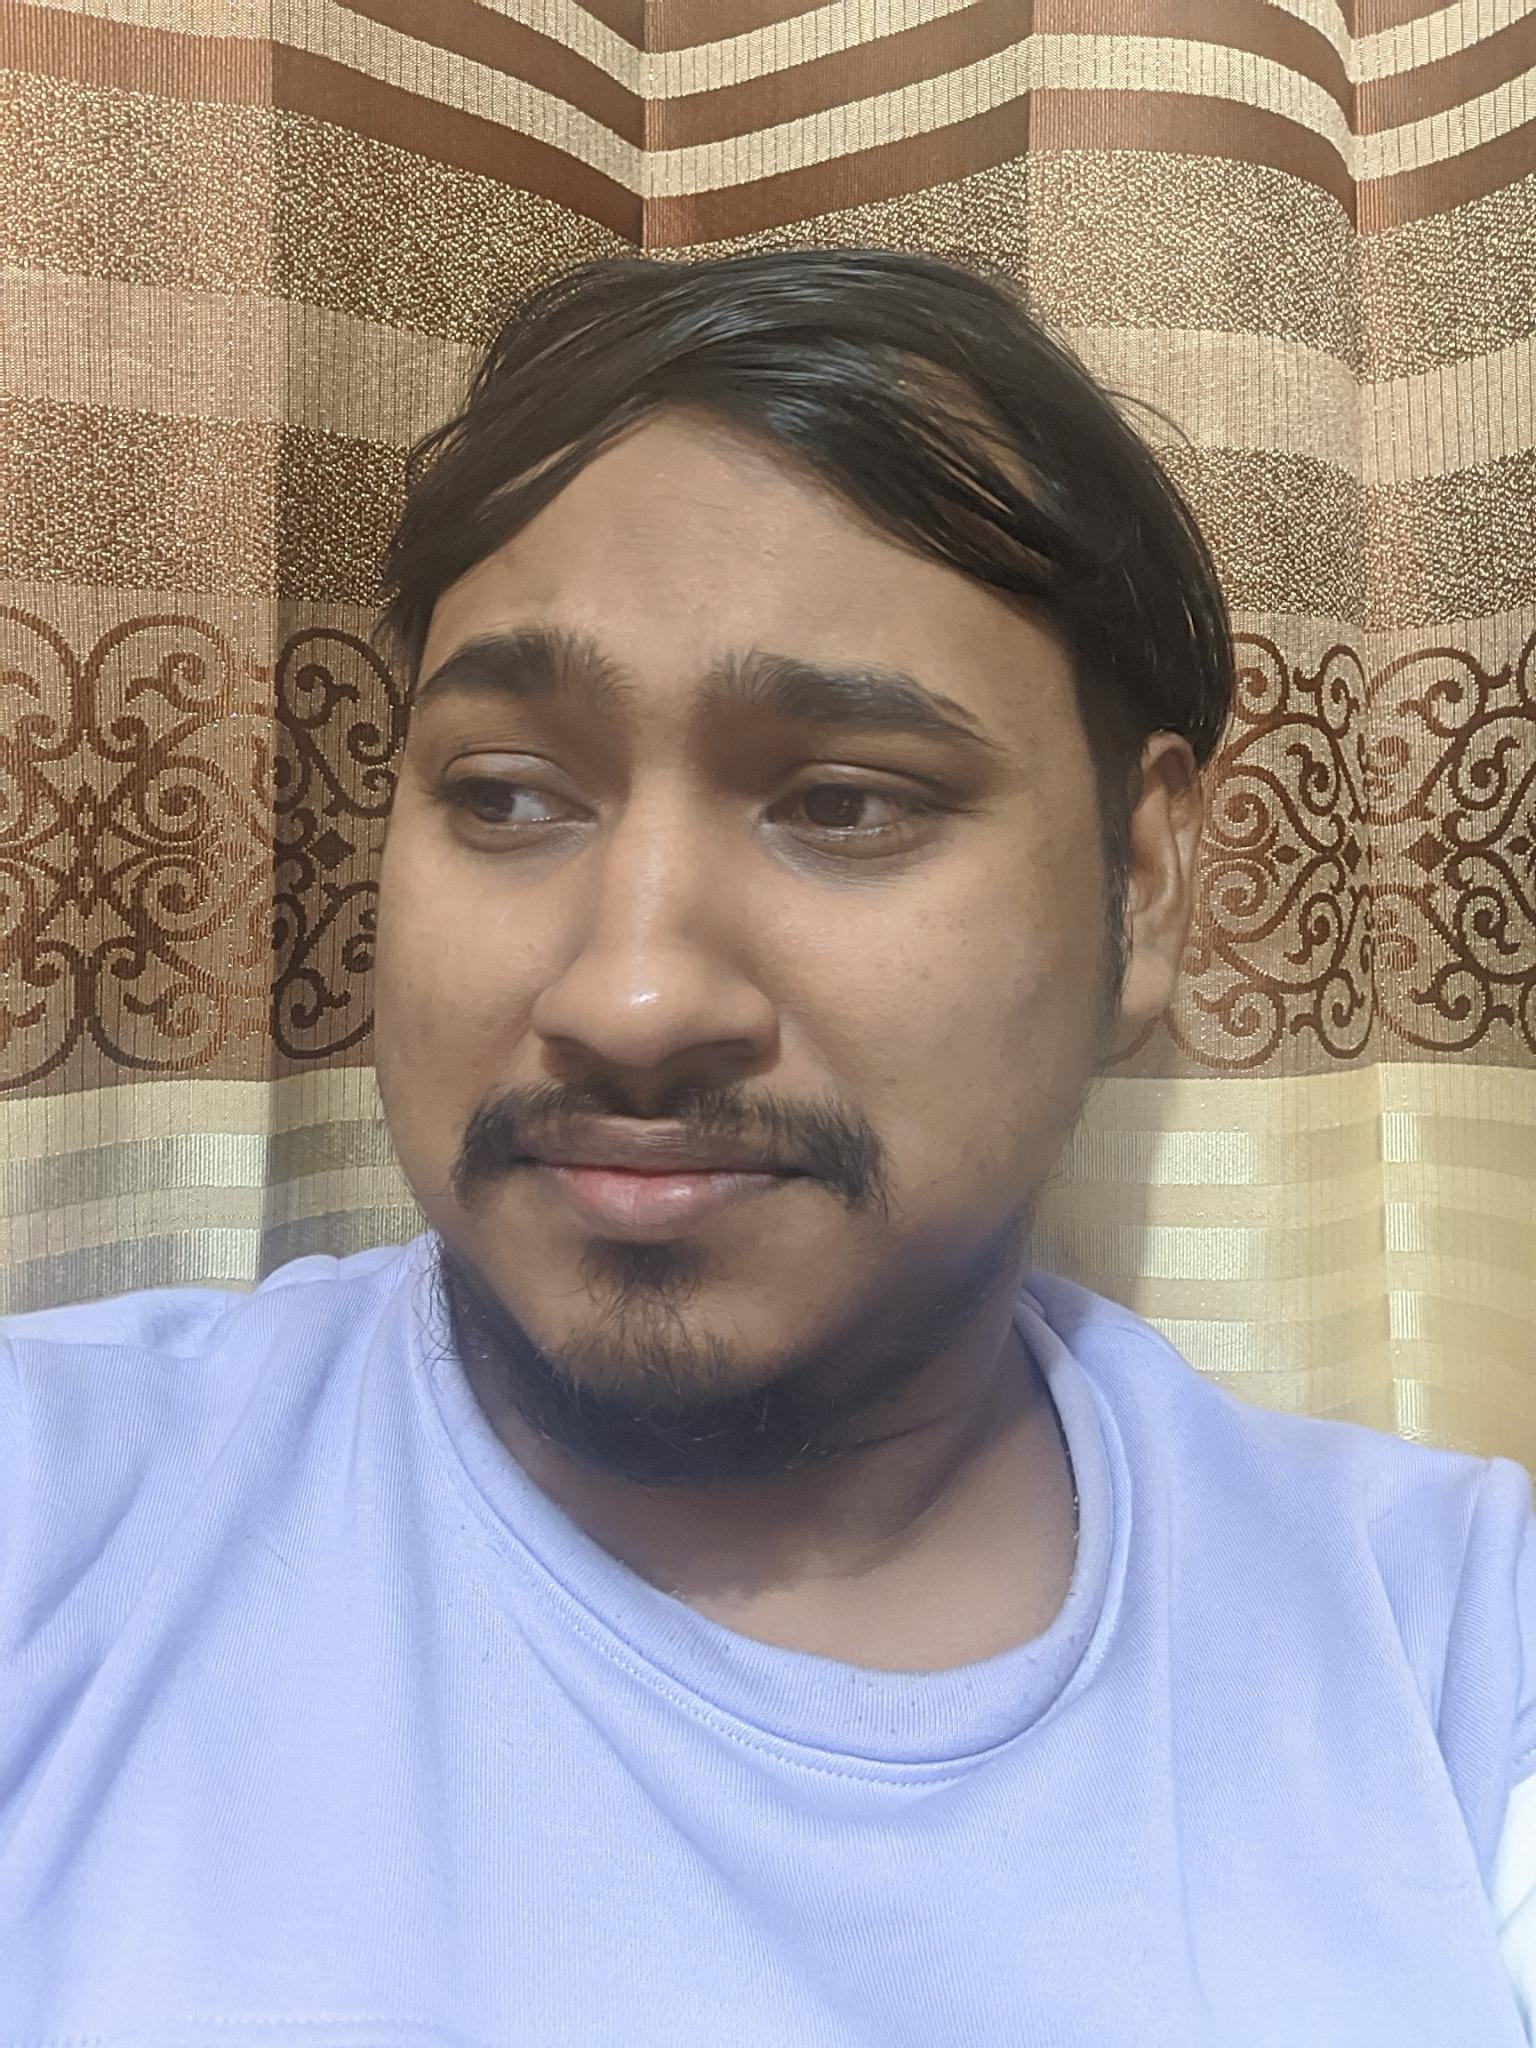Sad: (339, 556, 1049, 1414)
